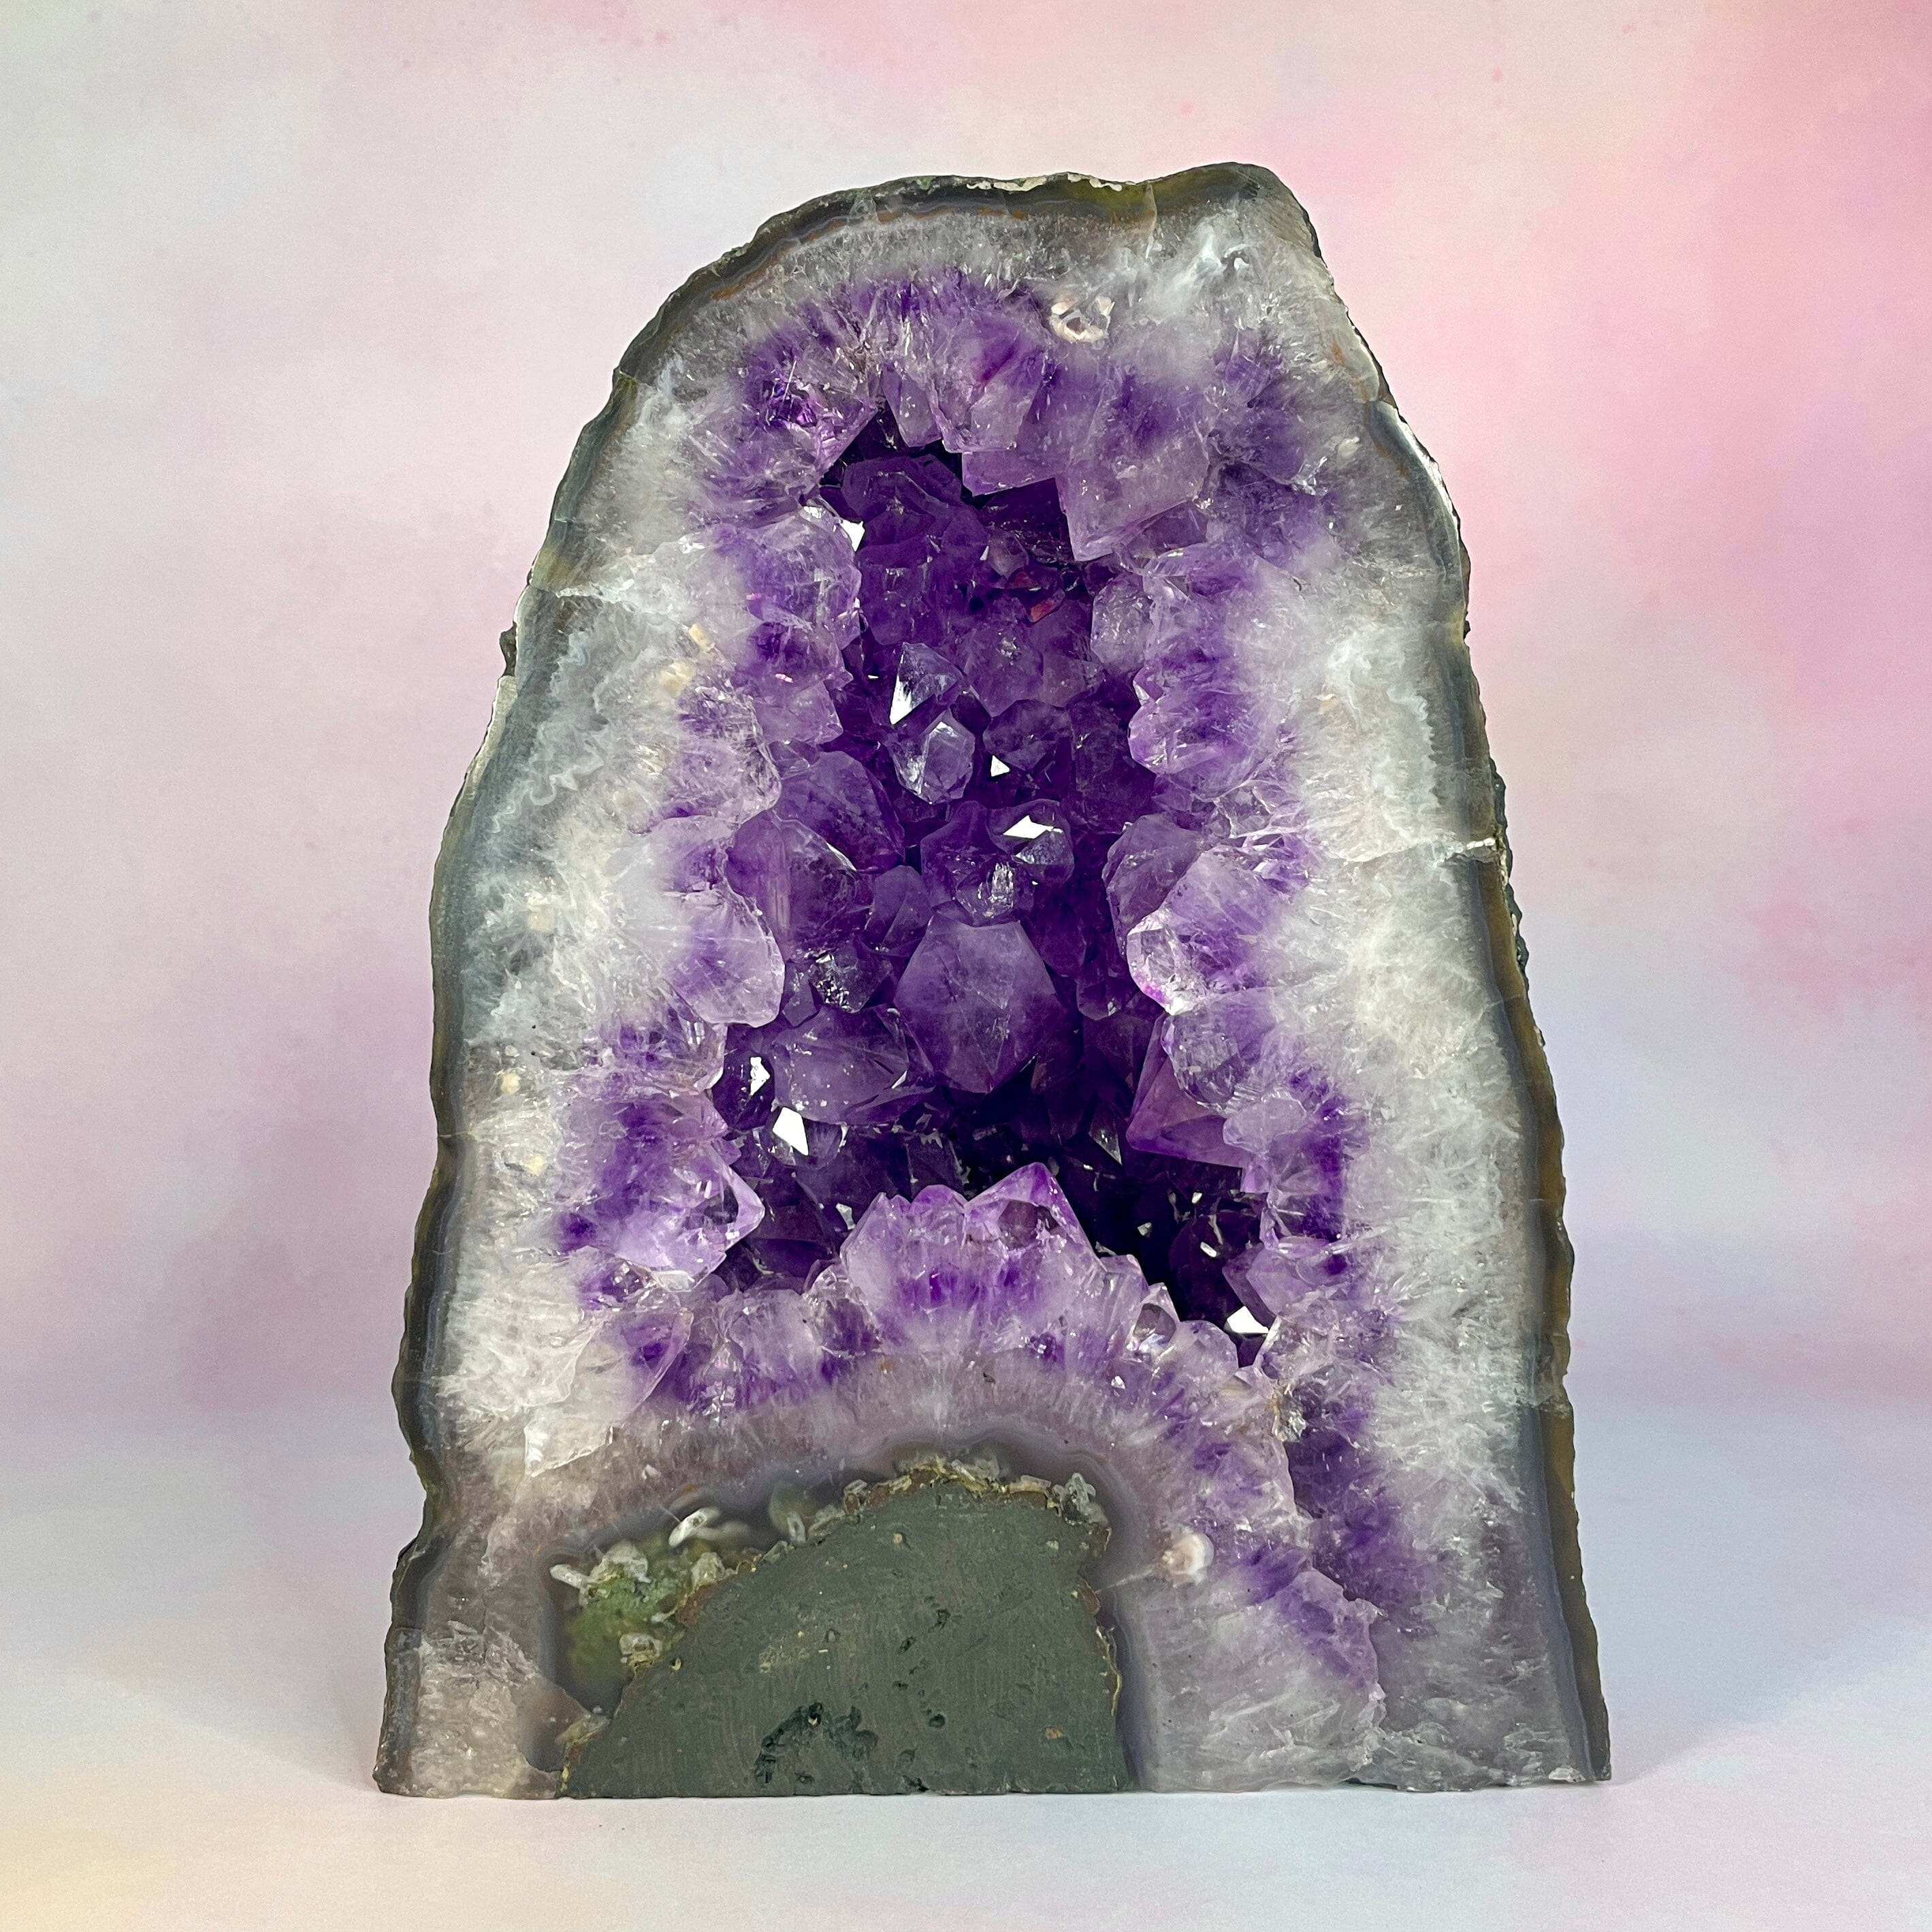Amethyst: (568, 271, 1458, 1610)
